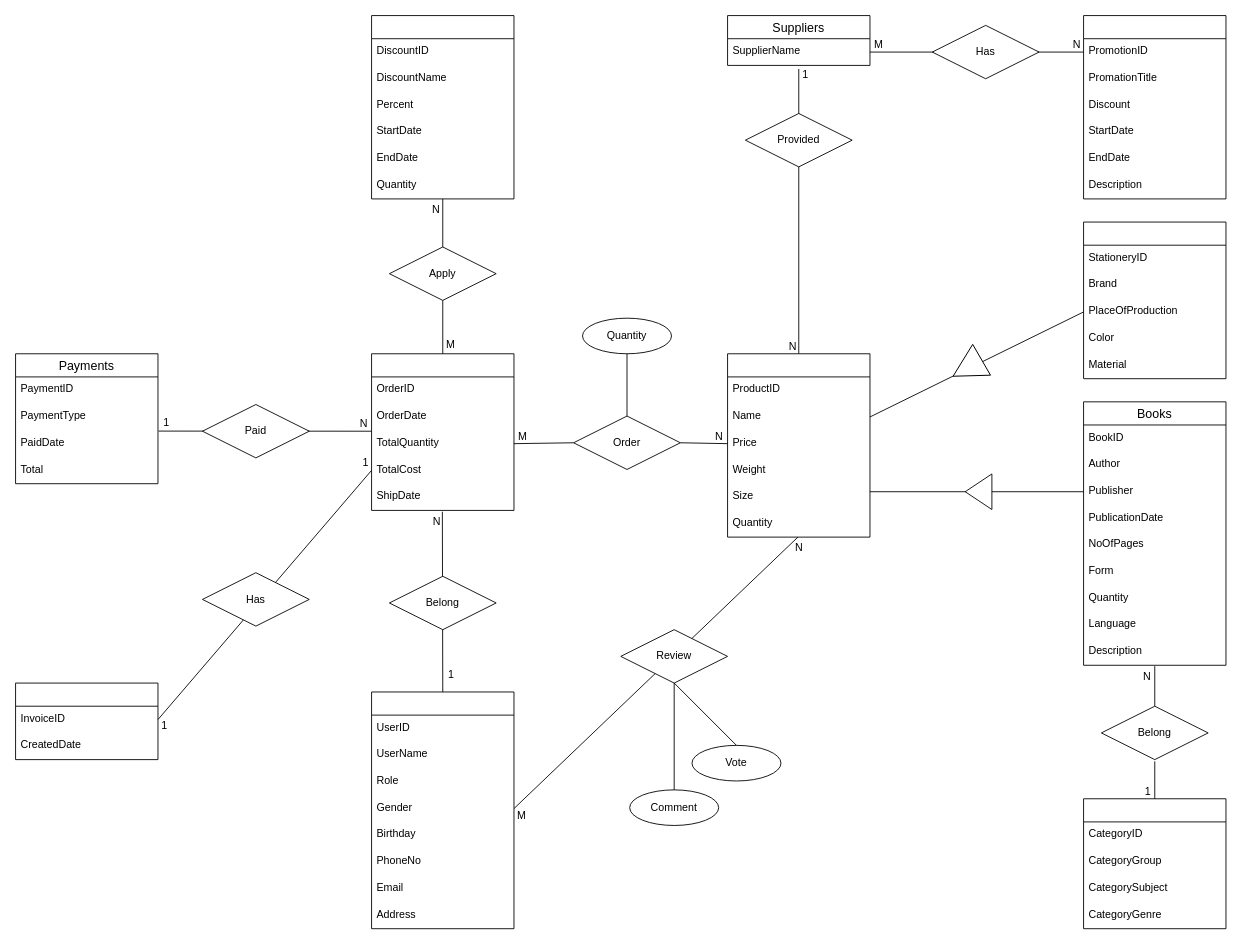
The diagram is 1242 pixels wide and 947 high, and some of its shapes have lost their labels. The shapes that lost their labels are listed below. From the top down, each one's box as (x1, y1, x2, y2) in pixels, then its label:
(371, 15, 514, 199): Discounts
(1083, 15, 1226, 199): Promotions
(1083, 221, 1226, 379): Stationeries
(371, 353, 514, 510): Orders
(727, 353, 870, 537): Products
(15, 682, 158, 760): Invoices
(371, 691, 514, 929): Users
(1083, 798, 1226, 929): Categories
